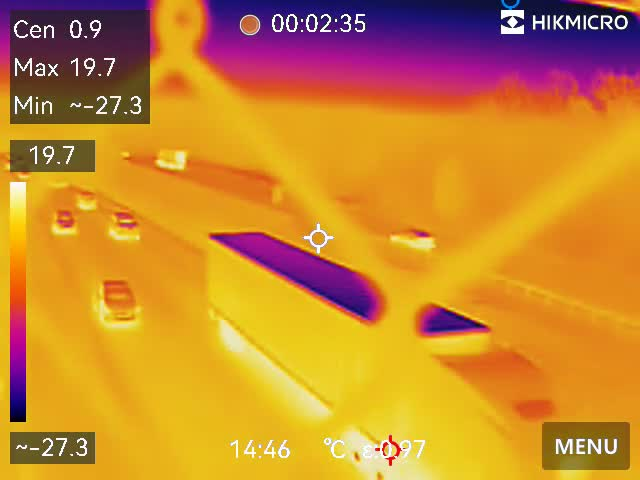heavyTruck: (204, 221, 577, 480), (151, 146, 196, 172)
